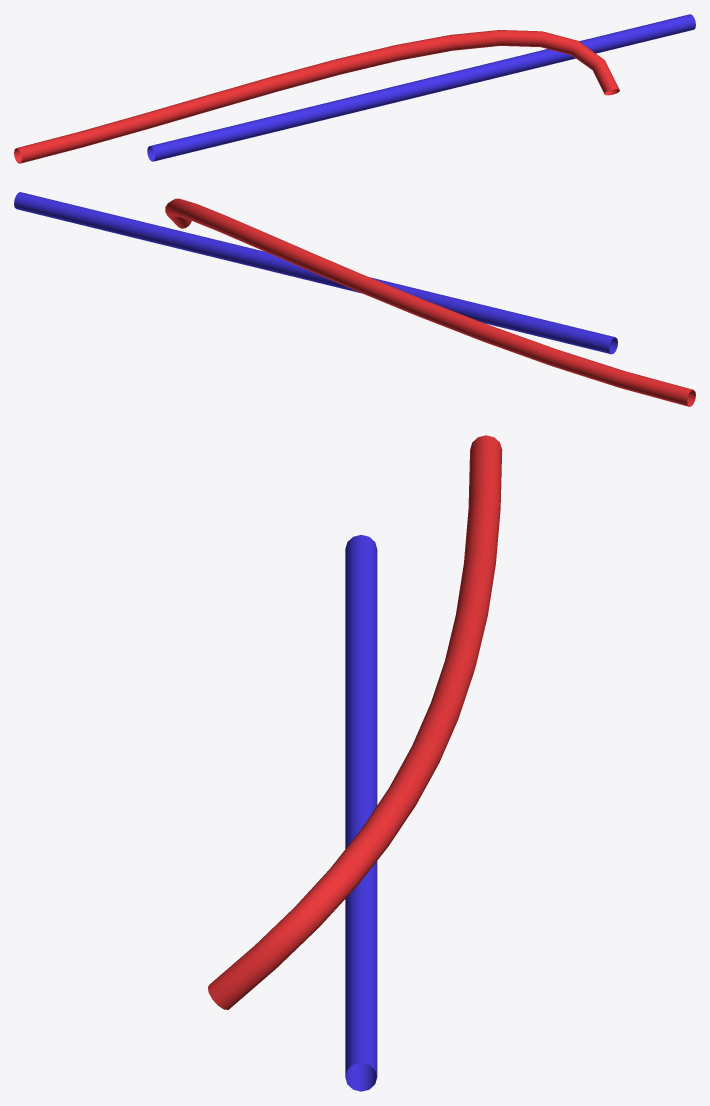
The model's file is SquareKnotState2.dae.
The picture shows the model from 3 angles, top to bottom: view 1: azimuth 30°, elevation 25°; view 2: azimuth 150°, elevation 25°; view 3: azimuth 270°, elevation 25°; orthographic projection. The views are drawn at different scales.
Visible parts, largest first — view 1: BezierCurve.003, BezierCurve.002; view 2: BezierCurve.003, BezierCurve.002; view 3: BezierCurve.003, BezierCurve.002.
Boxes of the visible parts, <box> form: BezierCurve.003: <box>14,30,619,163</box>; BezierCurve.002: <box>147,14,695,161</box>; BezierCurve.003: <box>165,198,695,406</box>; BezierCurve.002: <box>14,192,617,354</box>; BezierCurve.003: <box>208,435,502,1009</box>; BezierCurve.002: <box>345,535,377,1091</box>.
Bounding box in the file's own units: 0.9244 × 0.1833 × 0.0775.
